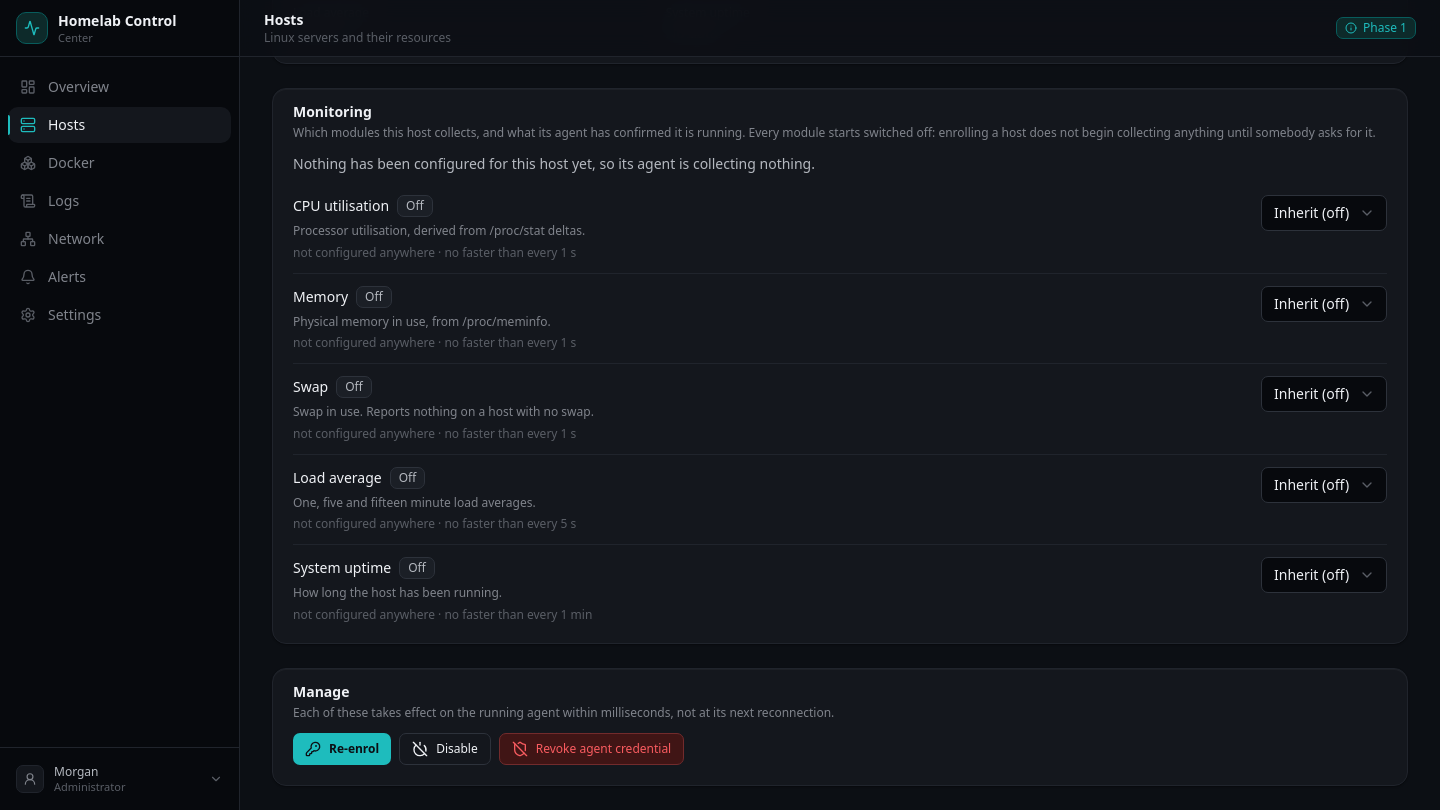
Test case: disabling and enabling › confirms disabling with its consequence, then applies it
The image size is (1440, 810).
(page scrolled)
Click the button "Disable": (445, 749) [399,733,491,765]
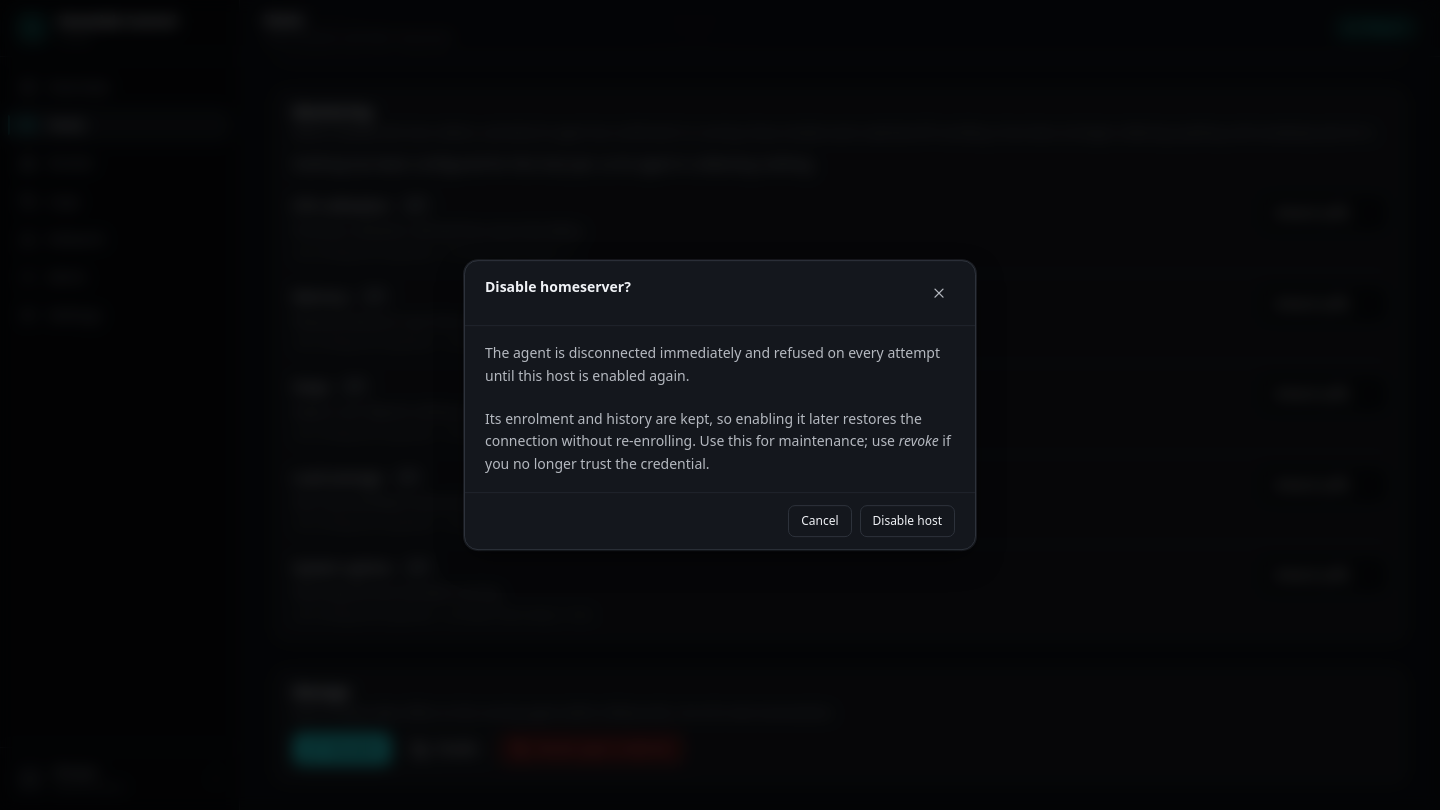
Expected: the text "disconnected immediately" is shown, [485,343,940,385]
Expected: the text "no longer trust the credential" is shown, [485,431,951,473]
Click the button "Disable host": (907, 521) [860,505,955,537]
(page scrolled)
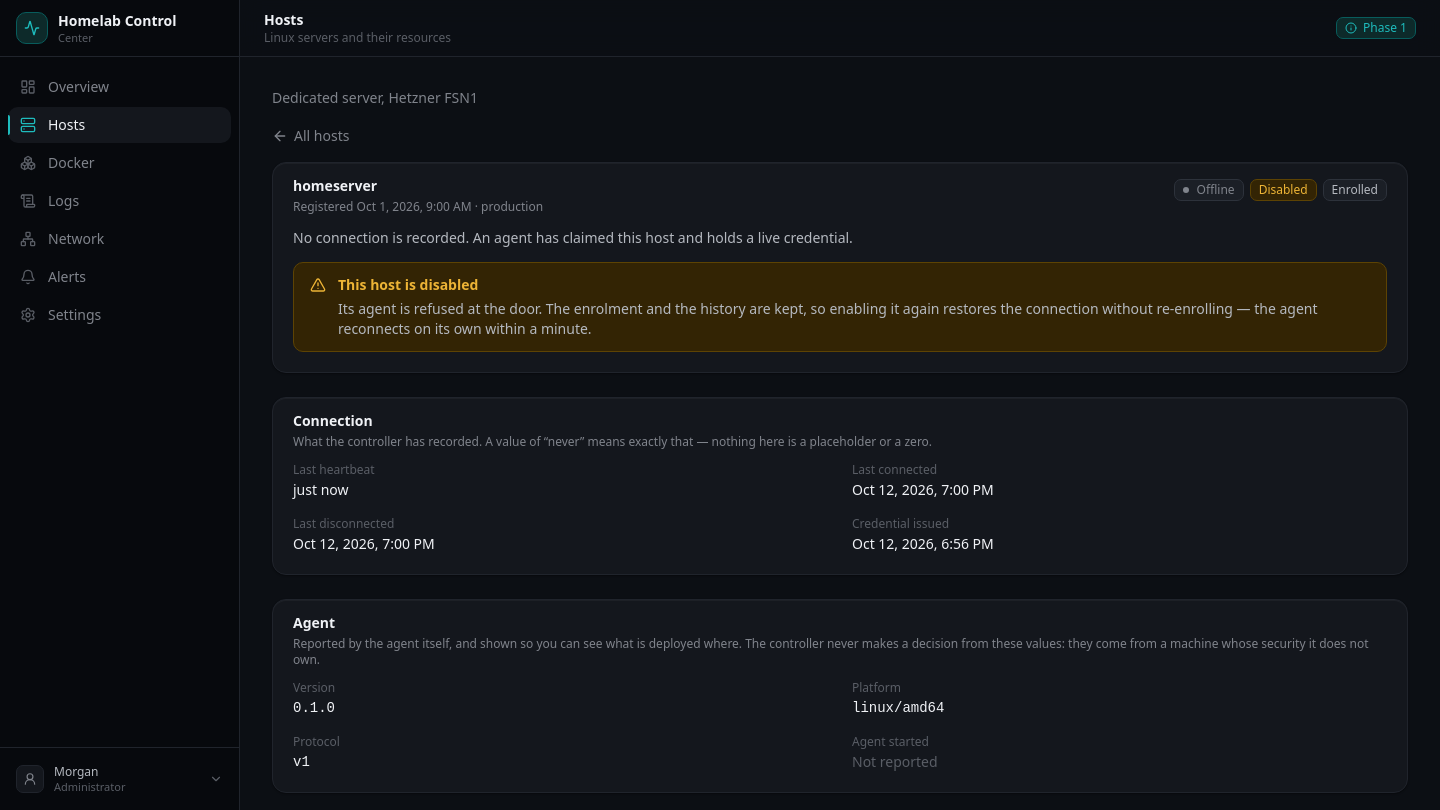
Expected: the text "Disabled" is shown, [1250,179,1317,201]
